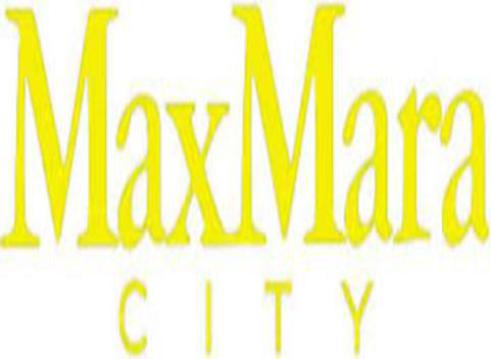MAX-MARA: (4, 5, 490, 248)
